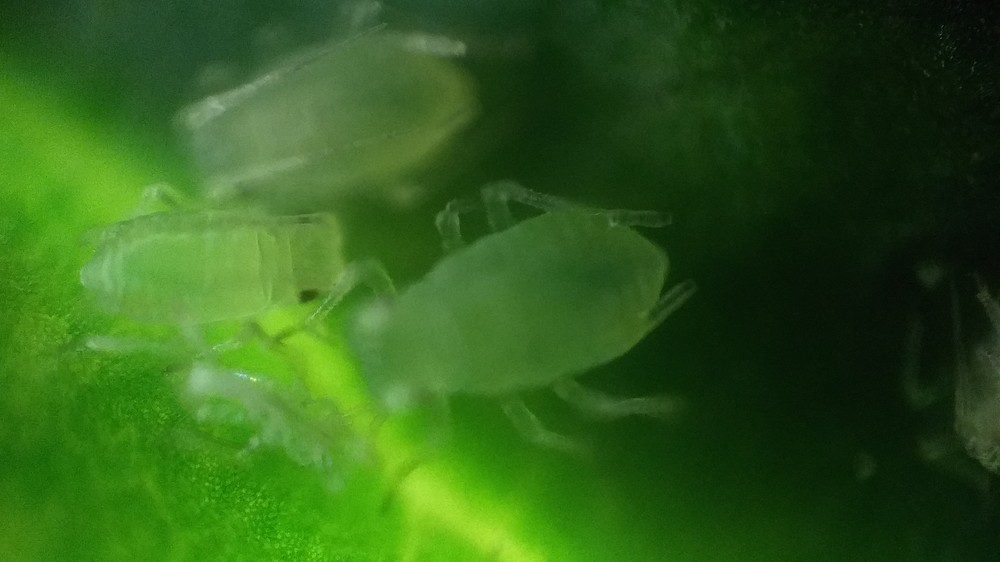Pulgon: (318, 178, 744, 476), (166, 12, 526, 233), (79, 176, 378, 380)
